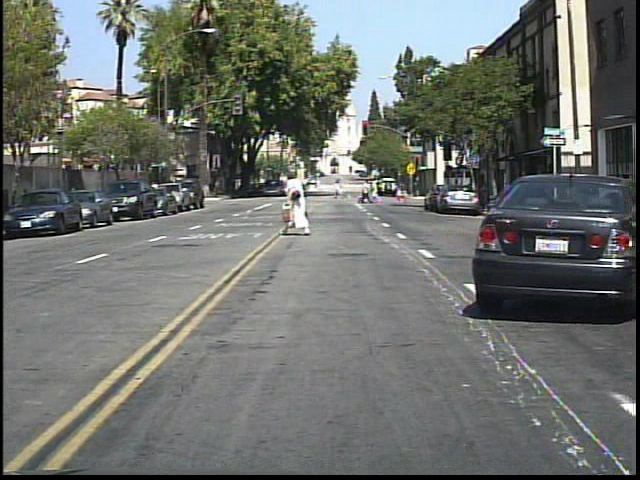person: (280, 167, 315, 239), (618, 163, 637, 230), (513, 167, 534, 225), (359, 177, 377, 207), (372, 177, 383, 205)
